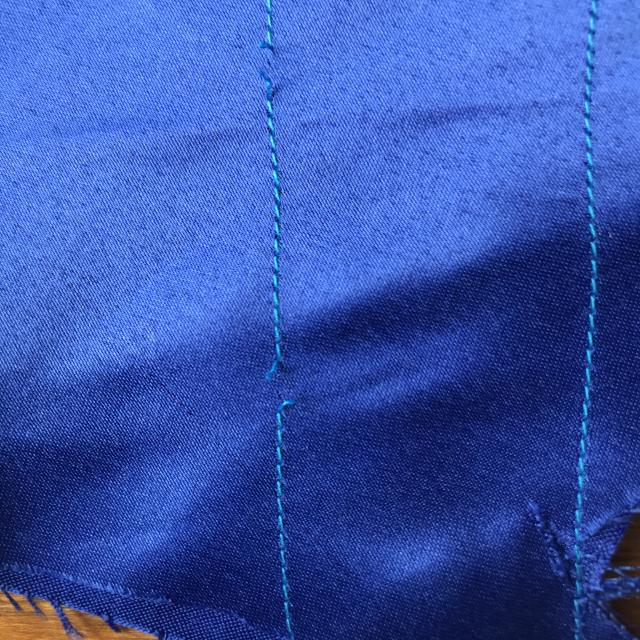broken: (239, 338, 313, 432)
good: (562, 275, 609, 412)
